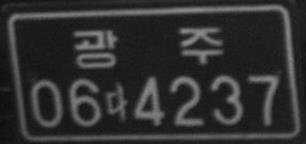0: (28, 78, 64, 129)
2: (168, 74, 205, 128)
3: (209, 72, 244, 128)
4: (131, 74, 166, 127)
6: (67, 76, 103, 129)
7: (244, 73, 282, 128)
광주_D: (71, 23, 226, 71)
다: (104, 80, 129, 123)
